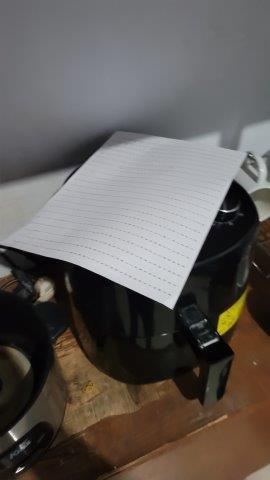kertas: (2, 130, 246, 310)
